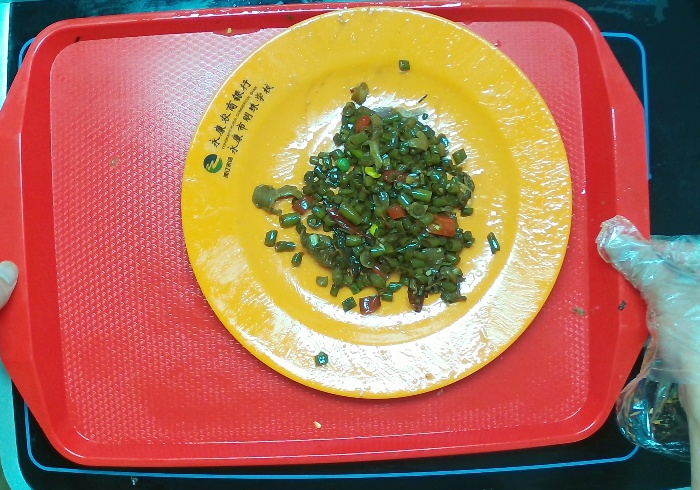YKMZ-Ju_Se_Mian_Pan: (179, 3, 574, 400)
